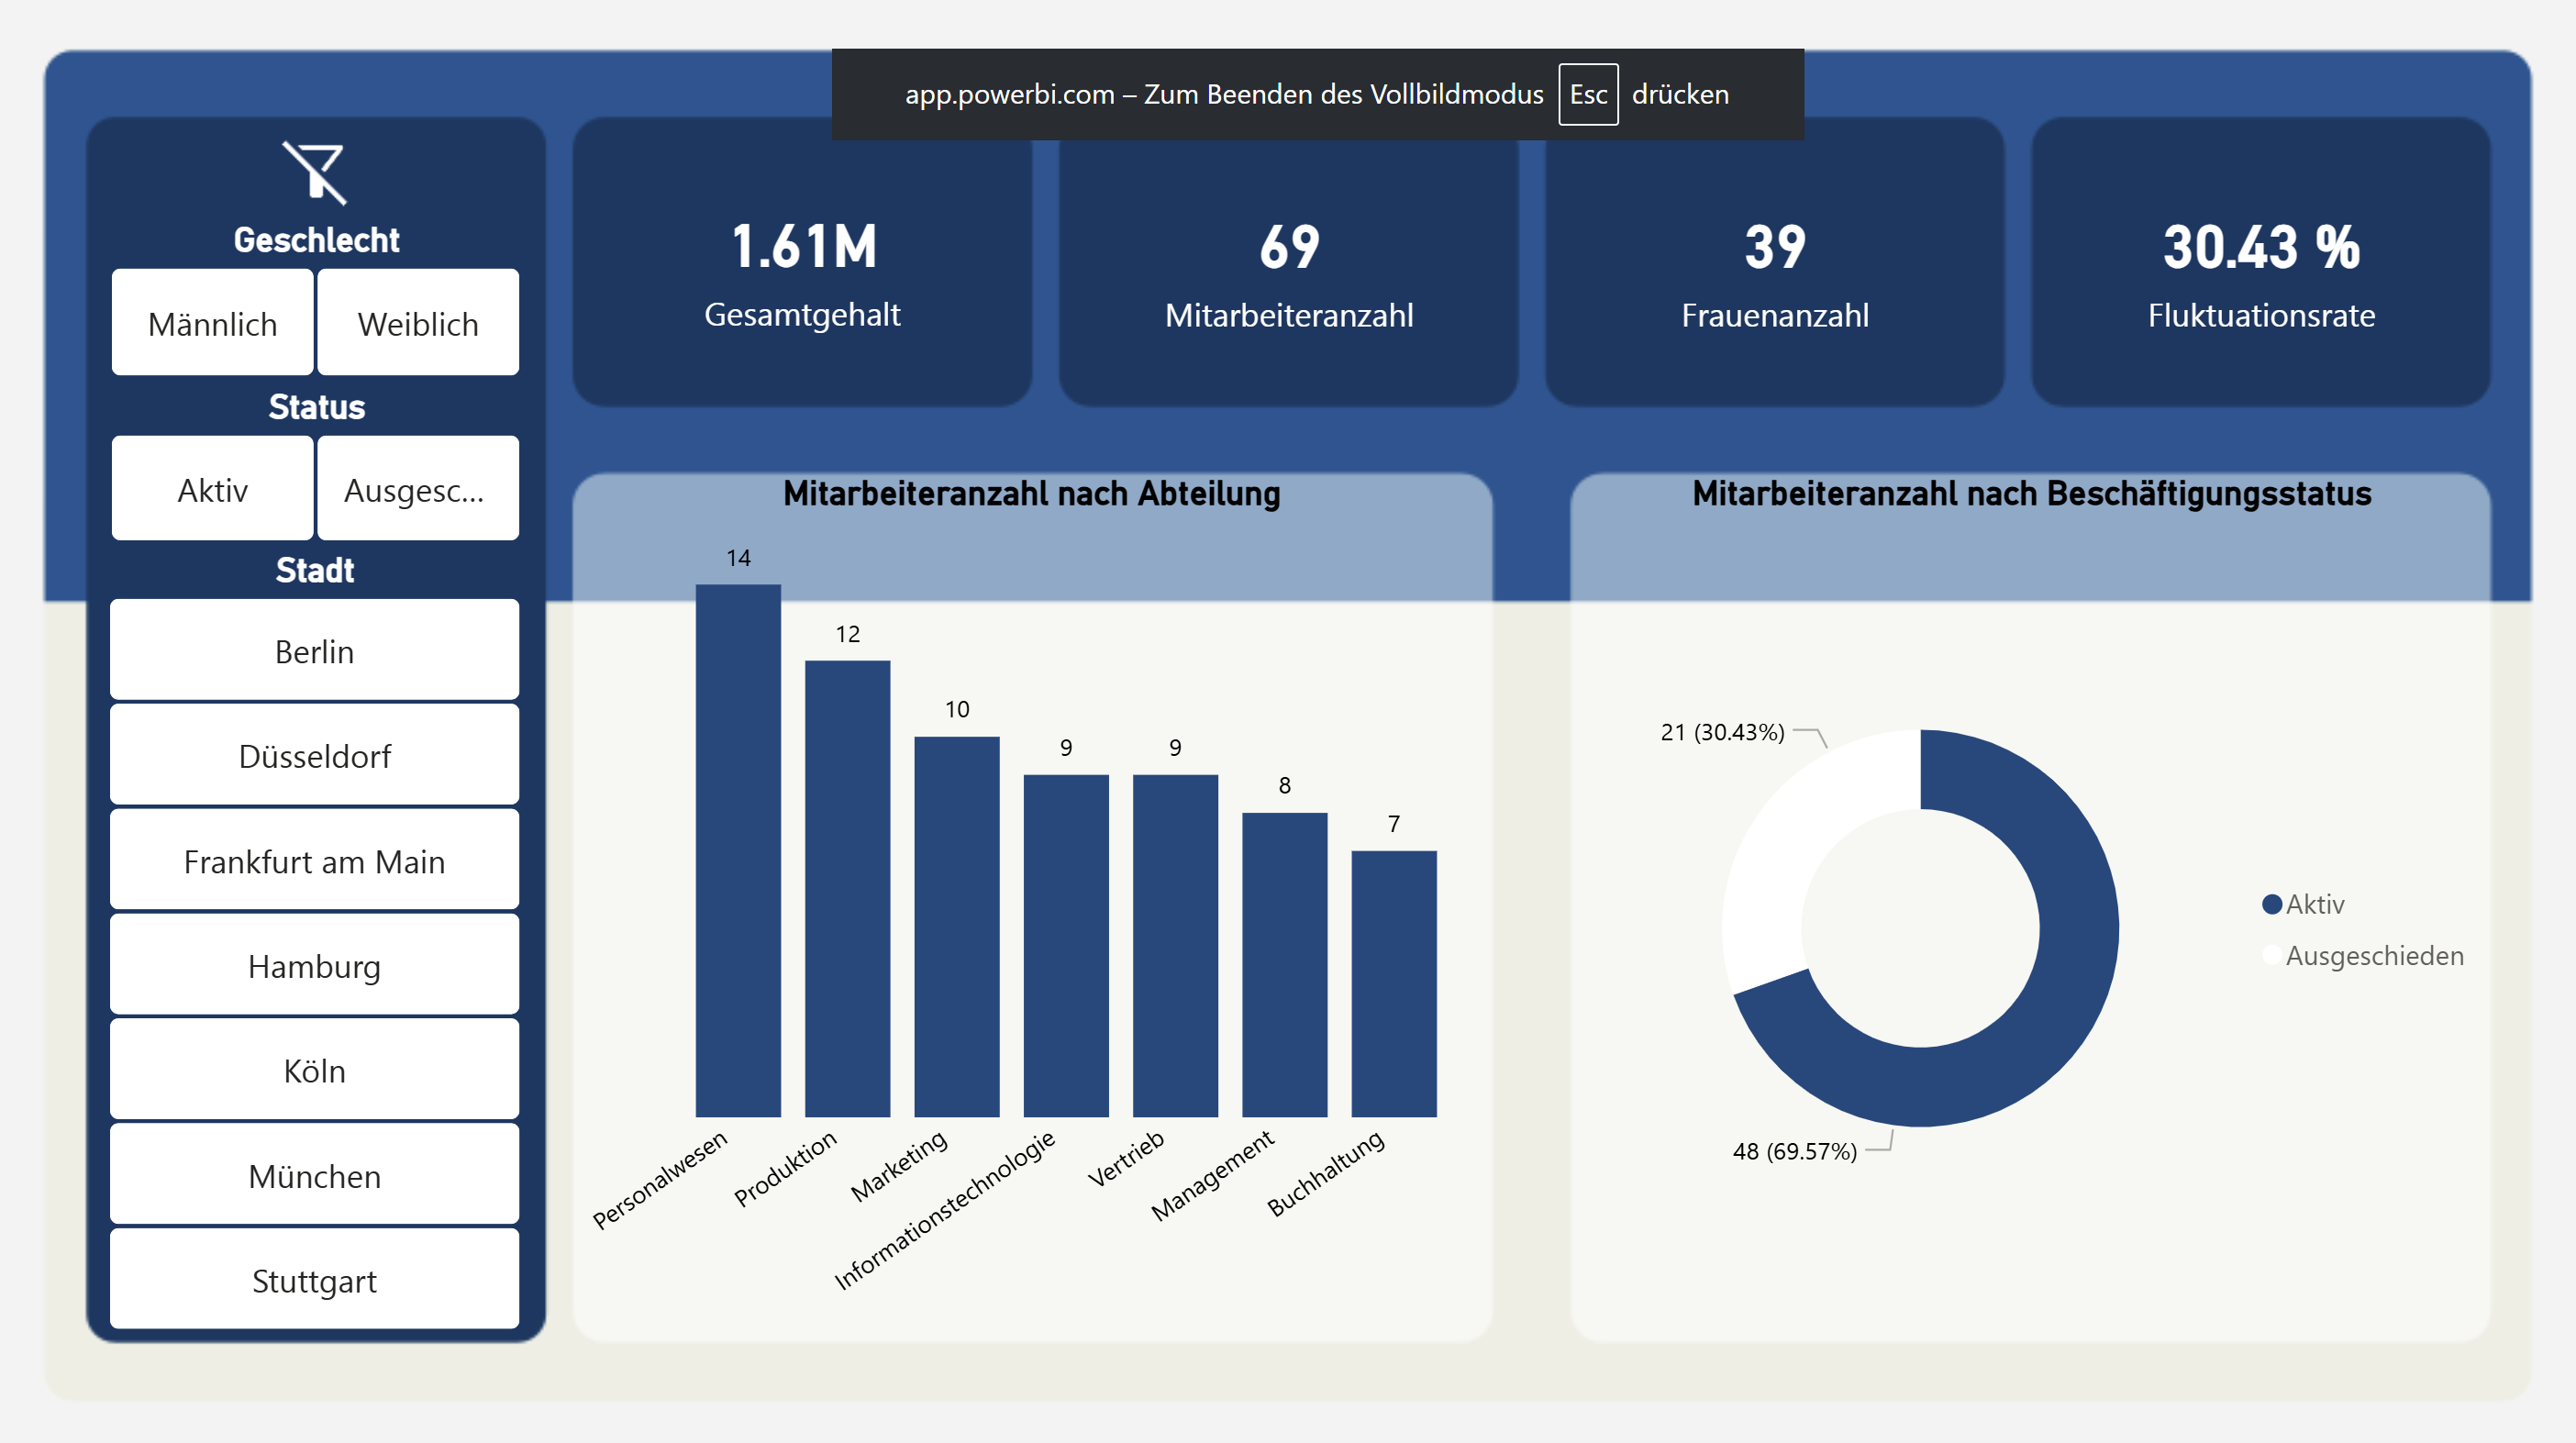

Layout of this report page (visuals, bound fields, positions):
{"tool":"powerbi","page":{"name":"Seite 1","canvas":[1280,720],"ordinal":0},"visuals":[{"type":"card","fields":{"Values":["_calc.Gesamtgehalt"]},"box":[284.7,58.2,229.4,145.3],"z":0},{"type":"card","fields":{"Values":["_calc.Mitarbeiteranzahl"]},"box":[525.6,57.8,230,145.6],"z":1000},{"type":"card","fields":{"Values":["_calc.Frauenanzahl"]},"box":[766.7,57.8,230,145.6],"z":2000},{"type":"card","fields":{"Values":["_calc.Fluktuationsrate"]},"box":[1007.8,57.8,230,145.6],"z":3000},{"type":"columnChart","title":"Mitarbeiteranzahl nach Abteilung","fields":{"Category":["Table_1.BIRIM_DE"],"Y":["_calc.Mitarbeiteranzahl"]},"box":[284.6,234.6,456.9,432.3],"z":4000},{"type":"donutChart","title":"Mitarbeiteranzahl nach Beschäftigungsstatus","fields":{"Category":["Table_1.STATUS_DE"],"Y":["_calc.Mitarbeiteranzahl"]},"box":[780.3,234.3,457.3,432.2],"z":5000},{"type":"advancedSlicerVisual","title":"Geschlecht","fields":{"Values":["Table_1.Geschlecht_DE"]},"box":[51.4,109.1,213.7,82.5],"z":6000},{"type":"advancedSlicerVisual","title":"Status","fields":{"Values":["Table_1.STATUS_DE"]},"box":[51.4,191.5,213.7,81.6],"z":7000},{"type":"advancedSlicerVisual","title":"Stadt","fields":{"Values":["Table_1.Stadt"]},"box":[51.2,273,213.8,394.7],"z":8000},{"type":"image","box":[128.6,65.6,60.3,39],"z":9000}]}

Visuals, with their boxes on the page's 1280x720 design canvas (x1, y1, x2, y2). These are canvas units, not pixel positions in the 2576x1443 screenshot, which may show the page scaled, cropped or inside an application window:
card - _calc.Gesamtgehalt: left=285, top=58, right=514, bottom=204
card - _calc.Mitarbeiteranzahl: left=526, top=58, right=756, bottom=203
card - _calc.Frauenanzahl: left=767, top=58, right=997, bottom=203
card - _calc.Fluktuationsrate: left=1008, top=58, right=1238, bottom=203
"Mitarbeiteranzahl nach Abteilung" columnChart: left=285, top=235, right=742, bottom=667
"Mitarbeiteranzahl nach Beschäftigungsstatus" donutChart: left=780, top=234, right=1238, bottom=666
"Geschlecht" advancedSlicerVisual: left=51, top=109, right=265, bottom=192
"Status" advancedSlicerVisual: left=51, top=192, right=265, bottom=273
"Stadt" advancedSlicerVisual: left=51, top=273, right=265, bottom=668
image: left=129, top=66, right=189, bottom=105
